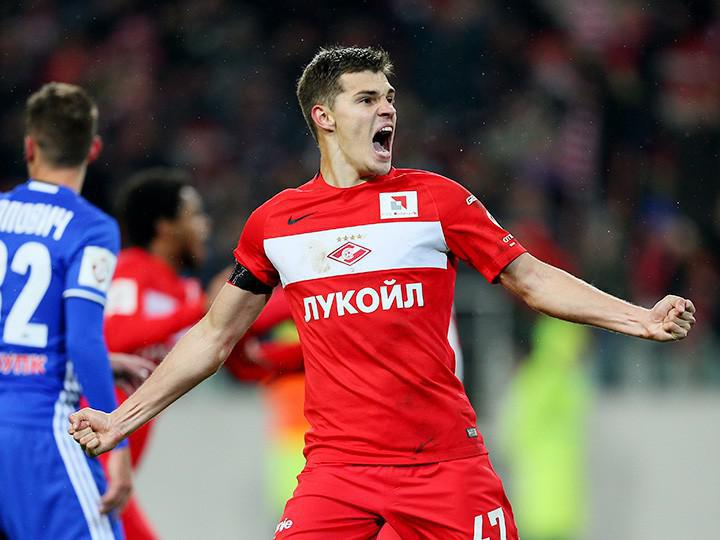player: (219, 32, 531, 534), (1, 72, 129, 539)
